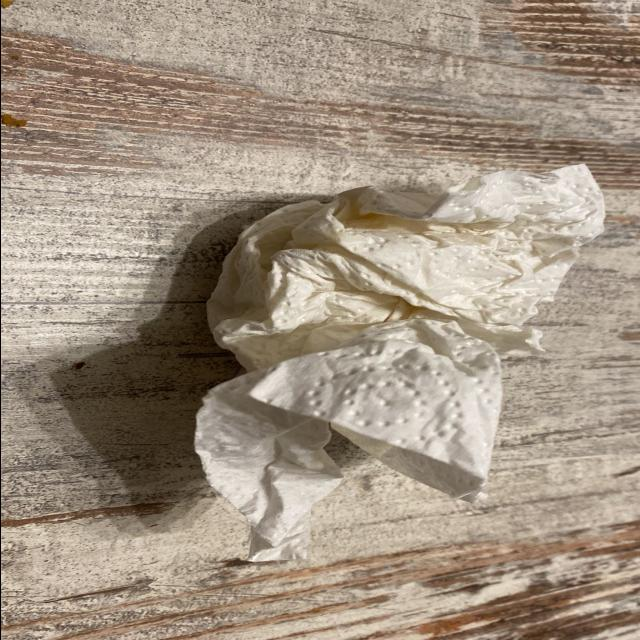organic waste: (193, 162, 609, 565)
